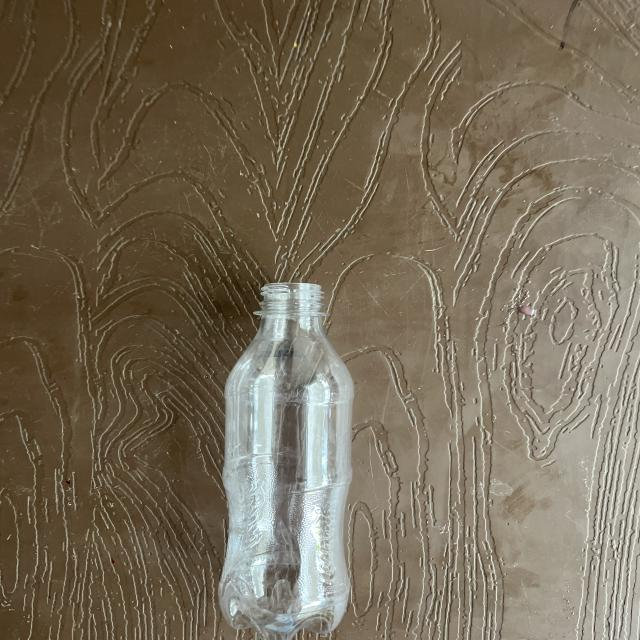PET_ClearBottle: (191, 286, 381, 640)
